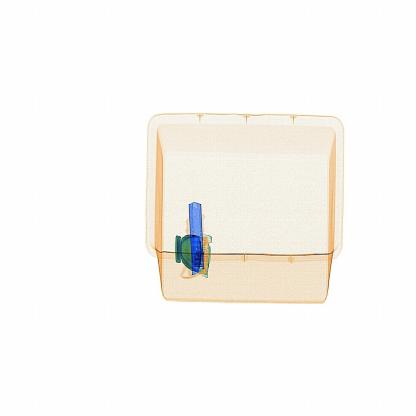pliers: (187, 194, 206, 276)
